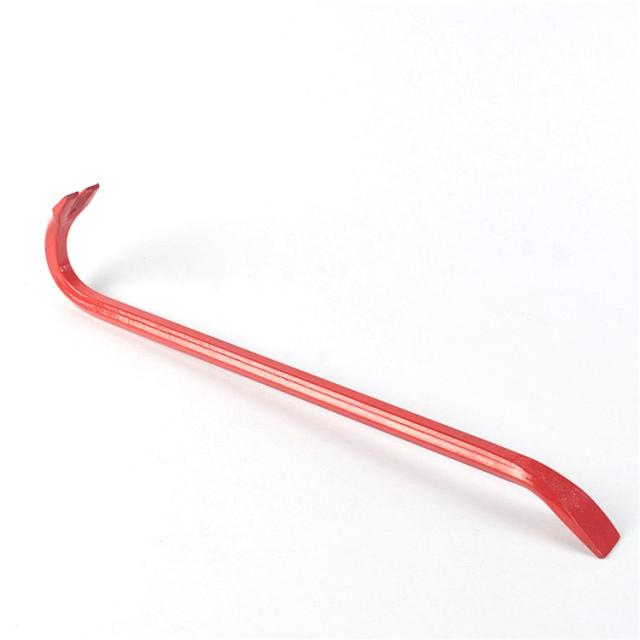Linggis: (44, 182, 618, 550)
